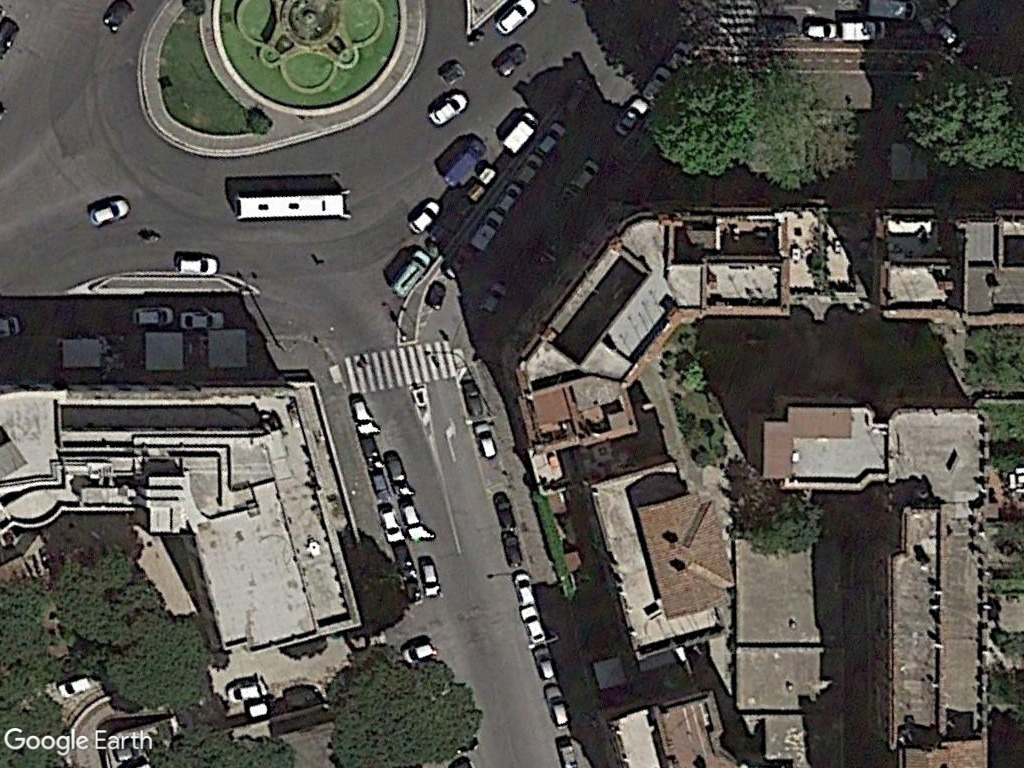bus: (229, 191, 351, 223)
car: (611, 96, 651, 138), (490, 1, 537, 35), (540, 681, 571, 732), (426, 90, 468, 127), (405, 198, 443, 238), (84, 197, 132, 228), (177, 303, 226, 332), (487, 489, 519, 533), (492, 42, 529, 80), (468, 421, 500, 463), (349, 395, 380, 438), (374, 502, 405, 545), (172, 251, 221, 278), (637, 64, 671, 101), (129, 302, 177, 328), (531, 644, 560, 687), (396, 639, 442, 666), (508, 567, 538, 608), (222, 679, 270, 704), (417, 557, 444, 600), (458, 377, 487, 417), (516, 605, 546, 643), (54, 676, 96, 701), (802, 18, 840, 42)
truck: (434, 138, 487, 189), (386, 246, 431, 301), (497, 110, 543, 155), (838, 15, 891, 44)
van: (462, 210, 505, 256)
